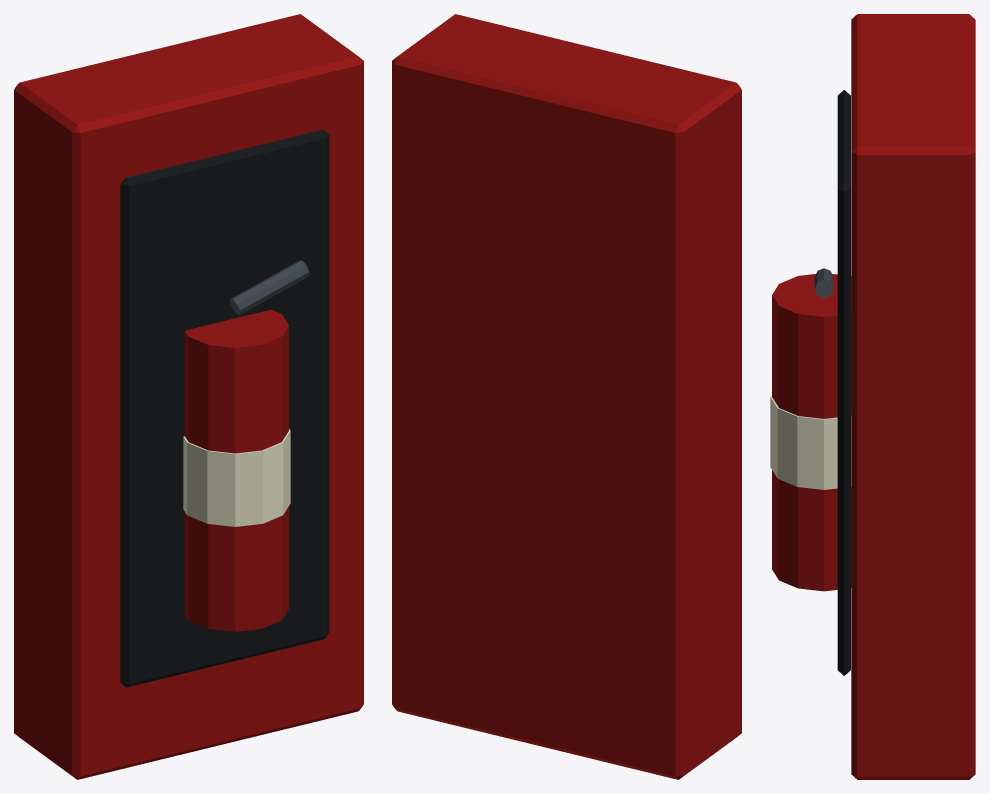
File: FireCabinet.fbx
3 renders of one model, left to right at view 1: azimuth 30°, elevation 25°; view 2: azimuth 150°, elevation 25°; view 3: azimuth 270°, elevation 25°, orthographic. The views are drawn at different scales.
Parts seen in each view (by area): view 1: FireCabinet; view 2: FireCabinet; view 3: FireCabinet.
Boxes of the visible parts, x1,y1,x2,y2 form: FireCabinet: (14,14,363,779); FireCabinet: (392,14,741,779); FireCabinet: (770,14,975,779).
Bounding box in the file's own units: 42 × 90 × 26.4.
Materials: 1 (1 with a texture image).
